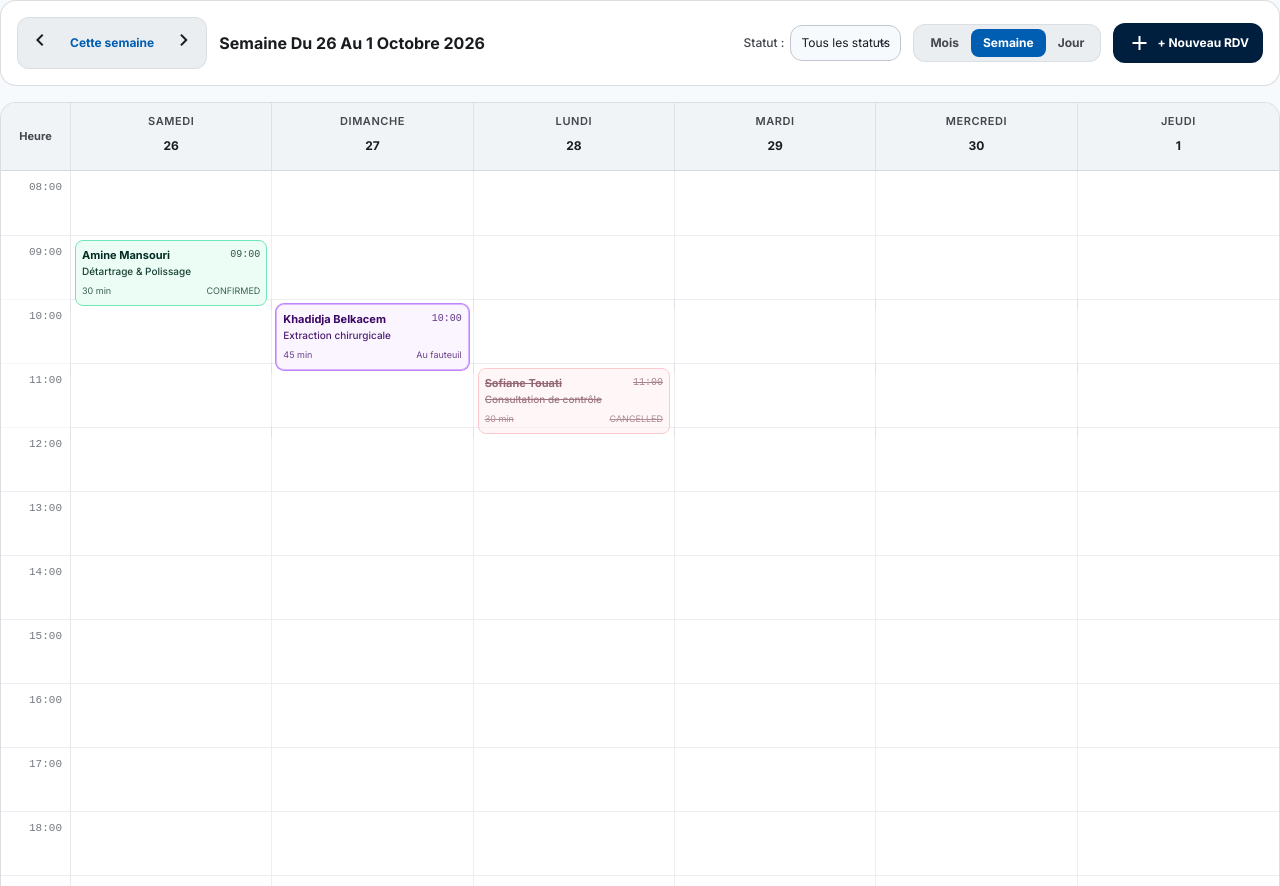
FullCalendarView Frontend Tests (Month, Week, Day & Interactivity) › 1. Navigation & View Switching (MONTH, WEEK, DAY) › switches to DAY view and renders the single day timeline banner
// Click on Day switch button
Click the button "Jour".
click(1071, 43)  # box [1046,29,1096,57]
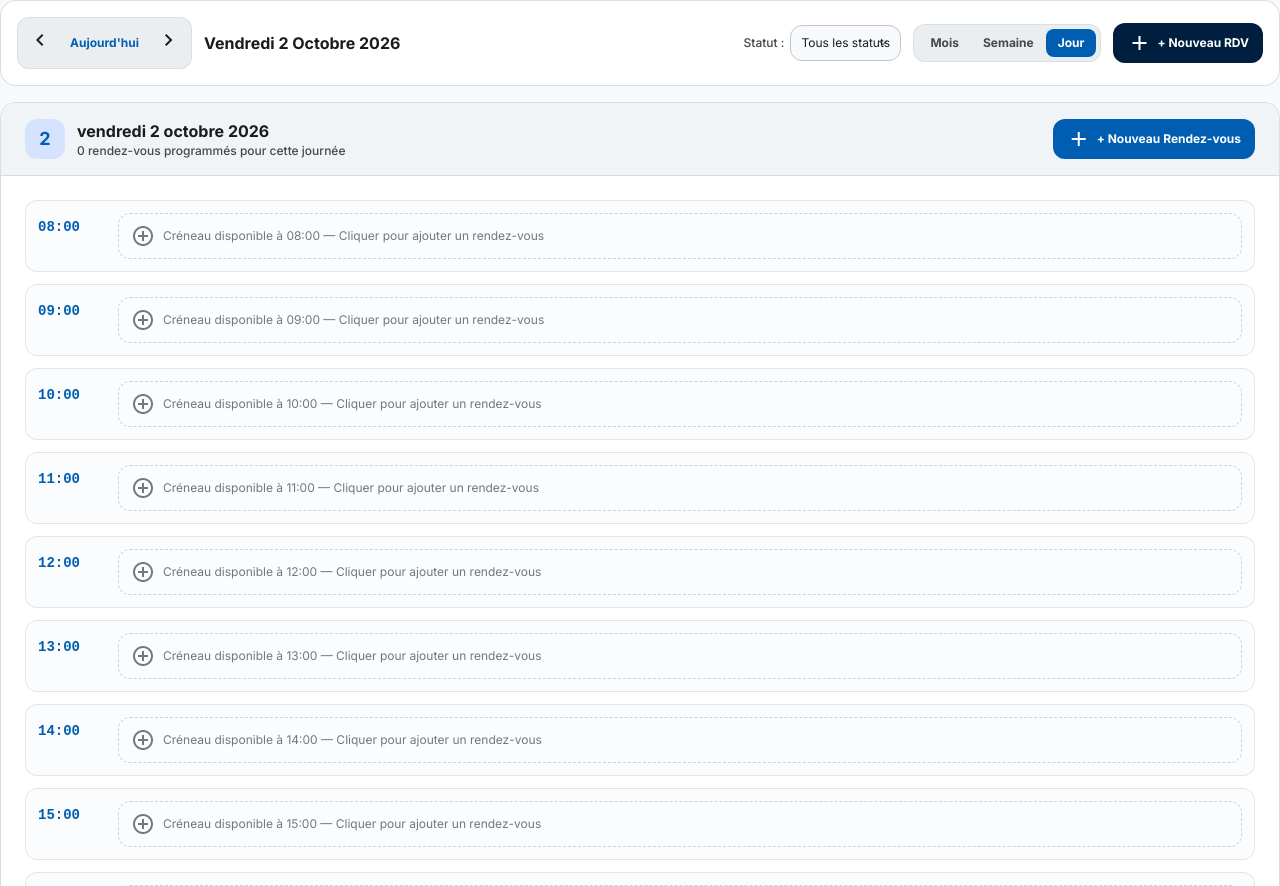
Check: the text "+ Nouveau Rendez-vous" is shown, box [1097,131,1241,147]
Check: the text "0 rendez-vous programmés pour cette journée" is shown, box [77,143,346,159]
Check: the button "Aujourd'hui" is shown, box [58,31,151,55]
